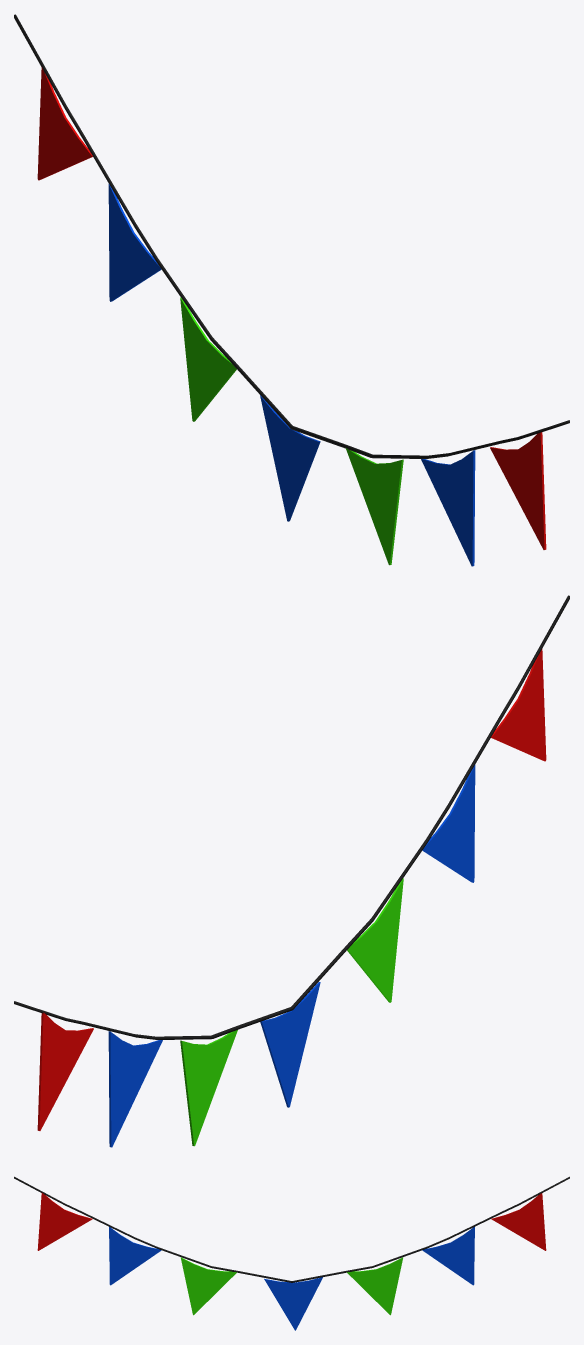
Rendered from triangle.fbx.
3 views of the same model, one above another, from view 1: azimuth 30°, elevation 25°; view 2: azimuth 150°, elevation 25°; view 3: azimuth 270°, elevation 25° (orthographic). The views are drawn at different scales.
Visible parts, largest first — view 1: Plane.001, Plane.003, Plane.002, Plane.008, Plane.005; view 2: Plane.001, Plane.003, Plane.002, Plane.008, Plane.005; view 3: Plane.002, Plane.003, Plane.001, Plane.005, Plane.008.
Boxes of the visible parts, x1,y1,x2,y2 form: Plane.001: (180, 297, 403, 565); Plane.003: (37, 66, 546, 549); Plane.002: (108, 184, 475, 566); Plane.008: (14, 14, 569, 458); Plane.005: (260, 395, 320, 521); Plane.001: (180, 878, 403, 1146); Plane.003: (37, 649, 546, 1130); Plane.002: (108, 765, 475, 1147); Plane.008: (14, 595, 569, 1039); Plane.005: (260, 982, 320, 1107); Plane.002: (109, 1227, 474, 1285); Plane.003: (37, 1192, 546, 1250); Plane.001: (180, 1257, 403, 1315); Plane.005: (264, 1277, 322, 1330); Plane.008: (14, 1176, 569, 1282).
Size of the model in its own units: 0.334 by 53.2 by 175.
